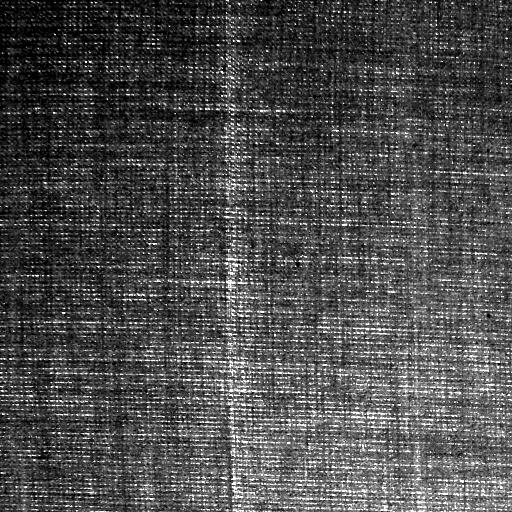fabric_missing_pick: (197, 19, 265, 504)
